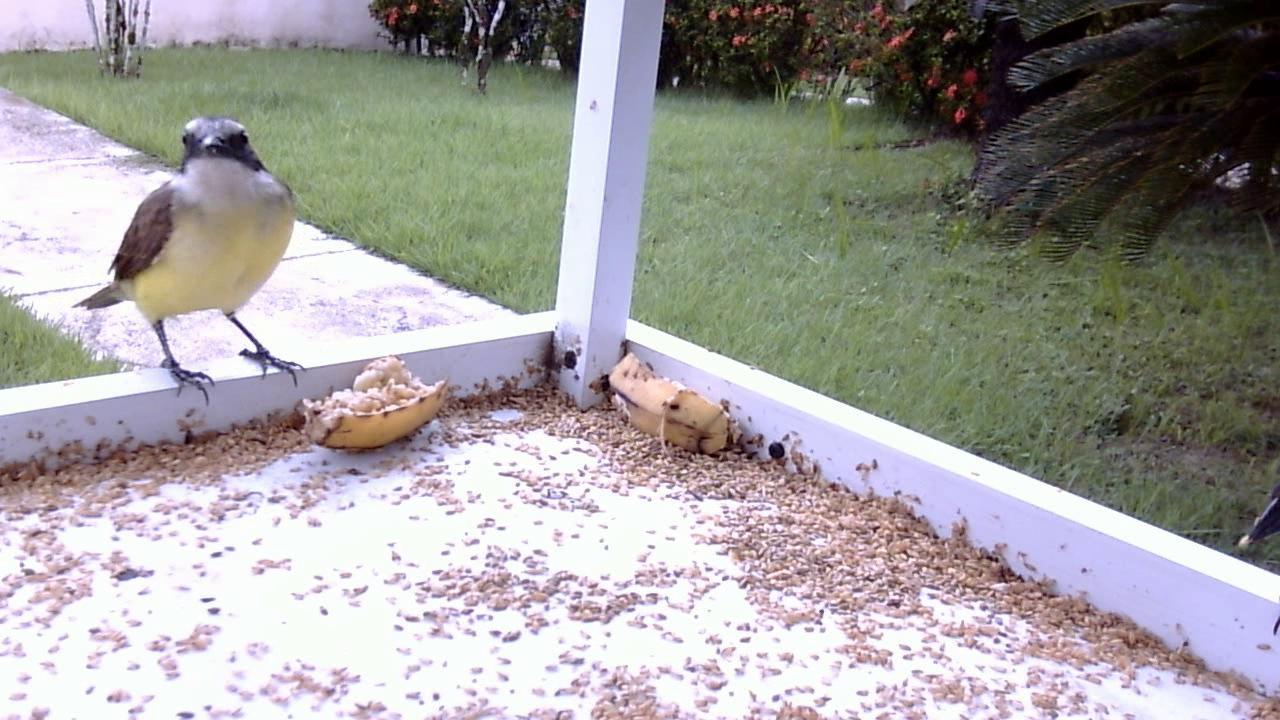bem_te_vi: (64, 112, 310, 408)
